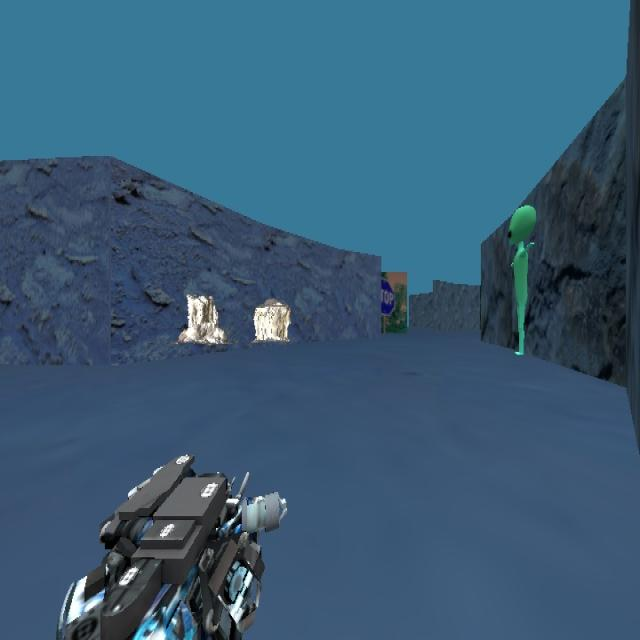Alien: (506, 202, 536, 354)
Ice: (169, 287, 229, 404), (249, 285, 301, 361)
Stop_Sign: (380, 276, 394, 316)
